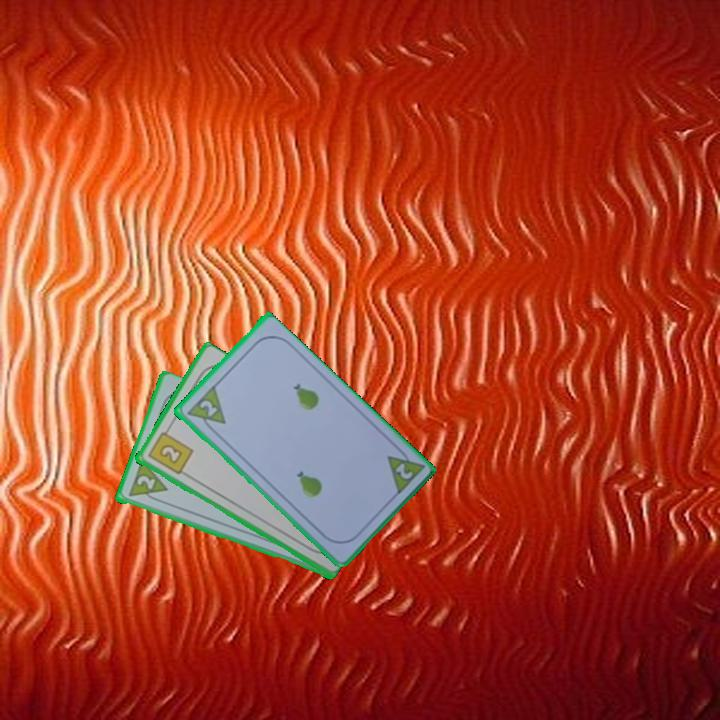2b: (144, 424, 195, 478)
2p: (383, 442, 427, 498), (182, 383, 228, 436), (124, 458, 170, 506)
